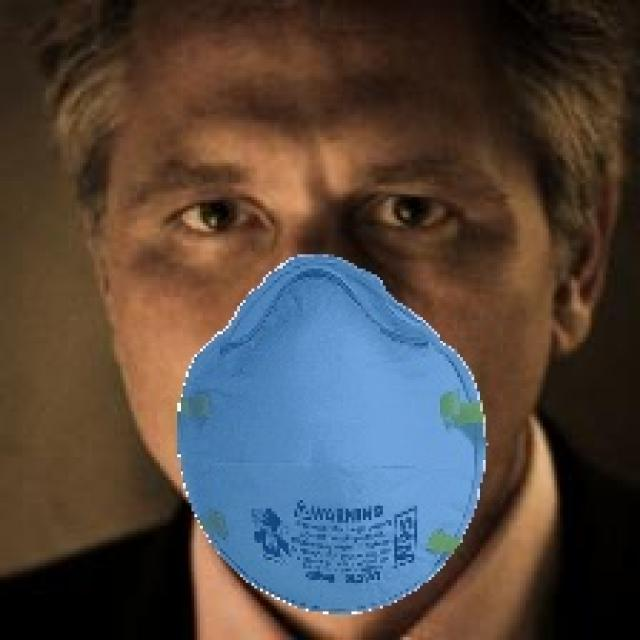mask: (159, 251, 512, 620)
